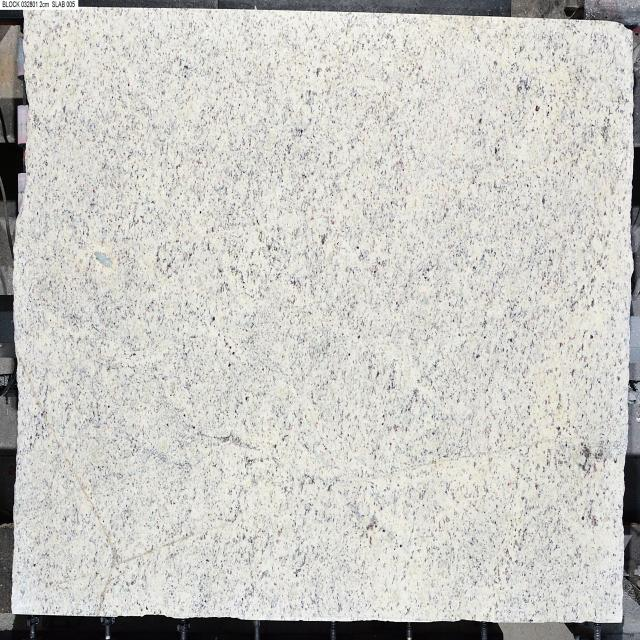chapa: (12, 10, 632, 622)
